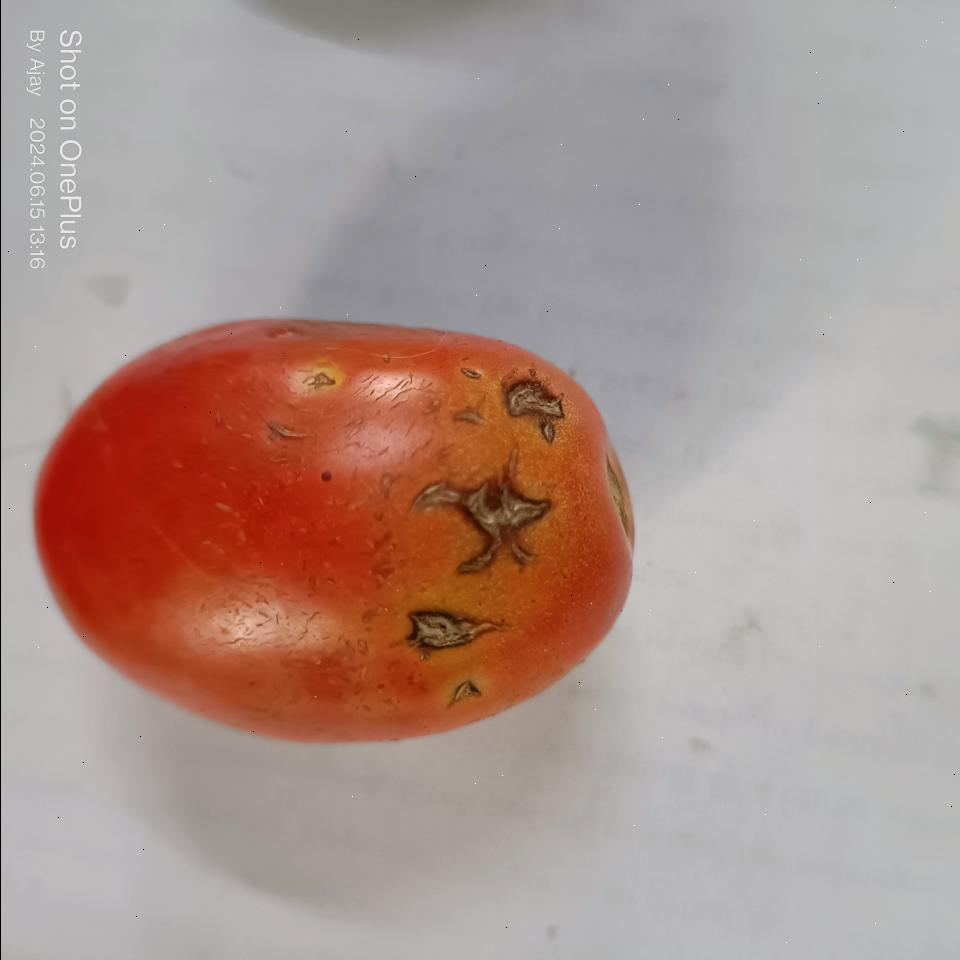Bacterial_Spot: (421, 466, 561, 576), (501, 373, 577, 446), (402, 610, 512, 652), (444, 670, 486, 718)
